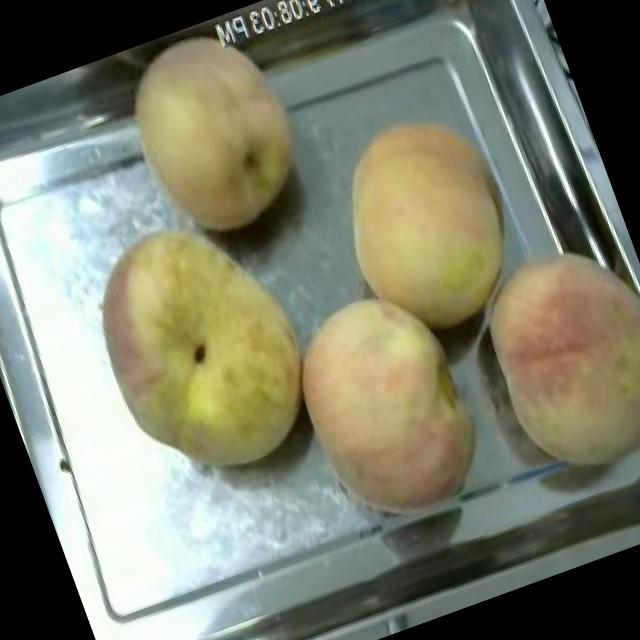Fruit: (59, 184, 348, 506), (260, 264, 510, 545), (301, 84, 549, 366), (97, 3, 336, 266), (449, 216, 640, 511)
